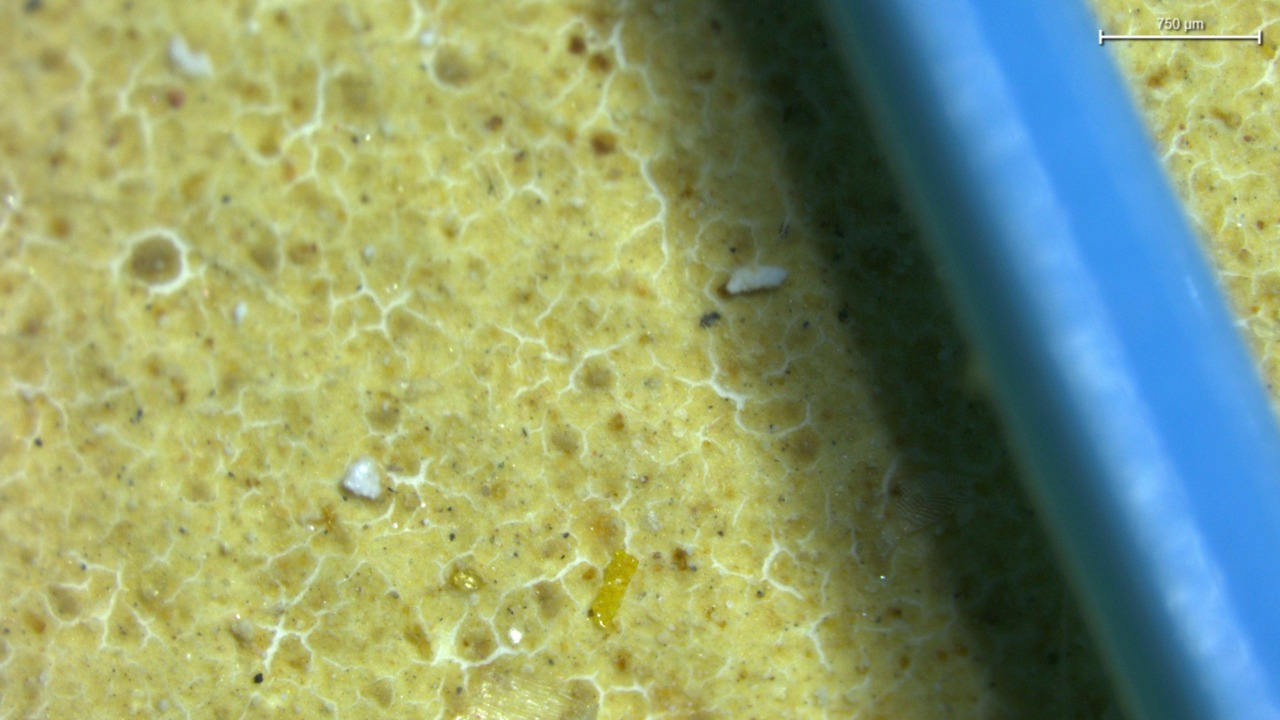microplastic_fragment: (725, 266, 787, 294), (342, 458, 382, 499)
